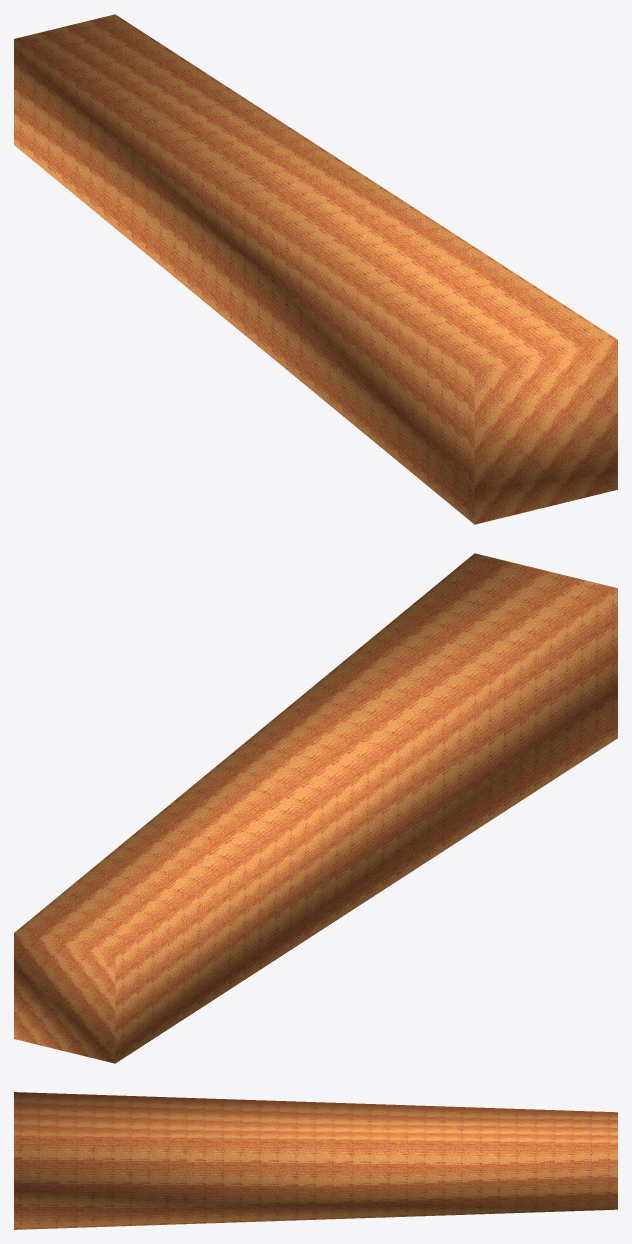
The model's file is 2751spurtle.gltf.
The picture shows the model from 3 angles, top to bottom: view 1: azimuth 30°, elevation 25°; view 2: azimuth 150°, elevation 25°; view 3: azimuth 270°, elevation 25°; orthographic projection. The views are drawn at different scales.
Visible parts, largest first — view 1: 2751spurtle; view 2: 2751spurtle; view 3: 2751spurtle.
Part boxes in pixels (x1=…): 2751spurtle: x1=14, y1=14, x2=617, y2=524; 2751spurtle: x1=14, y1=553, x2=617, y2=1063; 2751spurtle: x1=14, y1=1092, x2=617, y2=1229.
Size of the model in its own units: 0.1382 by 0.1382 by 0.8044.
Materials: 1 (1 with a texture image).
